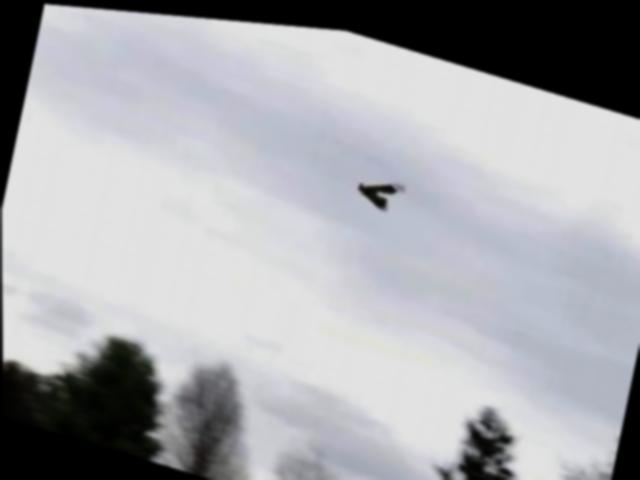flying wing: (350, 158, 410, 215)
